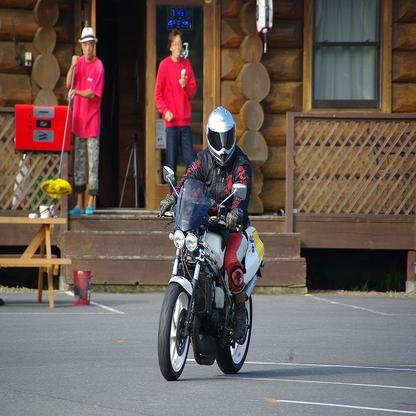target: (155, 106, 266, 380)
